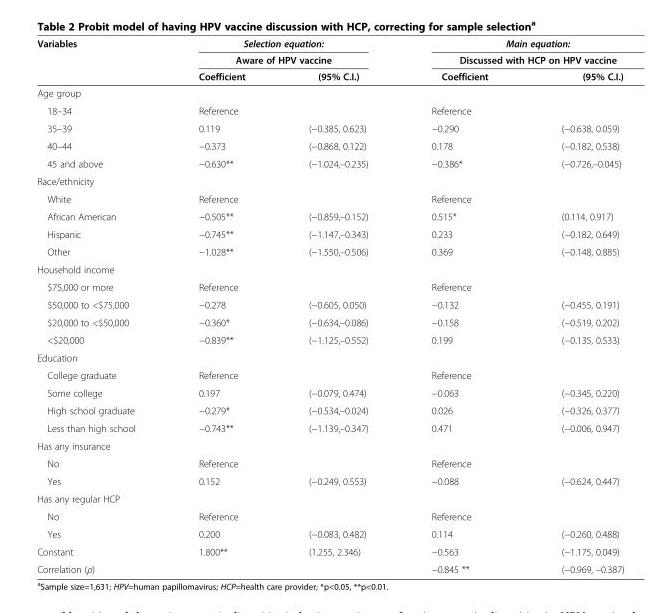table: (36, 37, 623, 574)
table column: (36, 37, 166, 574), (399, 37, 524, 574), (276, 37, 399, 574), (166, 37, 276, 574), (524, 37, 623, 574)
table column header: (36, 37, 623, 84)
table projected row header: (36, 348, 623, 366), (36, 436, 623, 454), (36, 489, 623, 507), (36, 84, 623, 101), (36, 172, 623, 189), (36, 260, 623, 277)
table row: (36, 101, 623, 119), (36, 136, 623, 154), (36, 154, 623, 172), (36, 189, 623, 207), (36, 224, 623, 242), (36, 242, 623, 260), (36, 277, 623, 295), (36, 295, 623, 313), (36, 330, 623, 348), (36, 348, 623, 366), (36, 383, 623, 401), (36, 418, 623, 436), (36, 436, 623, 454), (36, 471, 623, 489), (36, 489, 623, 507), (36, 524, 623, 542), (36, 67, 623, 84), (36, 84, 623, 101), (36, 119, 623, 136), (36, 172, 623, 189), (36, 207, 623, 224), (36, 260, 623, 277), (36, 313, 623, 330), (36, 366, 623, 383), (36, 401, 623, 418), (36, 454, 623, 471), (36, 507, 623, 524), (36, 542, 623, 559), (36, 51, 623, 67), (36, 559, 623, 574), (36, 37, 623, 51)
table spanning cell: (166, 37, 399, 67), (399, 37, 623, 67), (36, 37, 166, 84)
